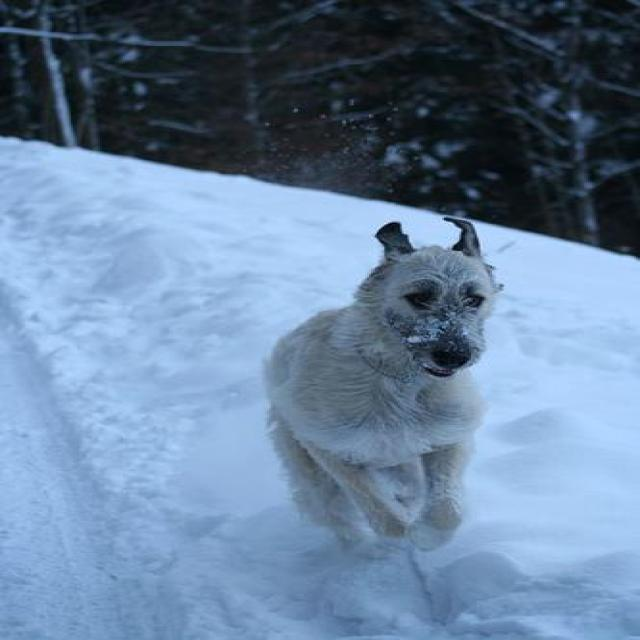irish_wolfhound: (260, 218, 503, 552)
